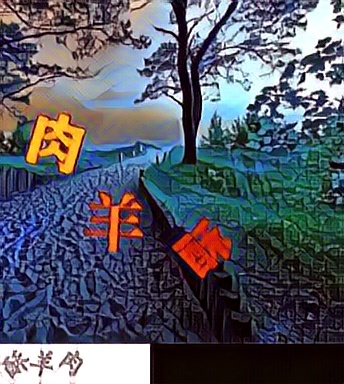C8E2: (24, 113, 84, 177)
CBD6: (173, 215, 233, 279)
D1F2: (83, 189, 143, 253)
